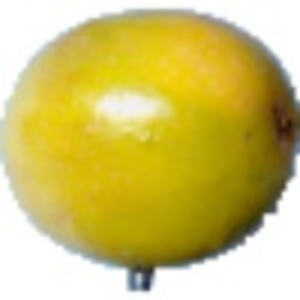maracujá: (1, 7, 300, 295)
